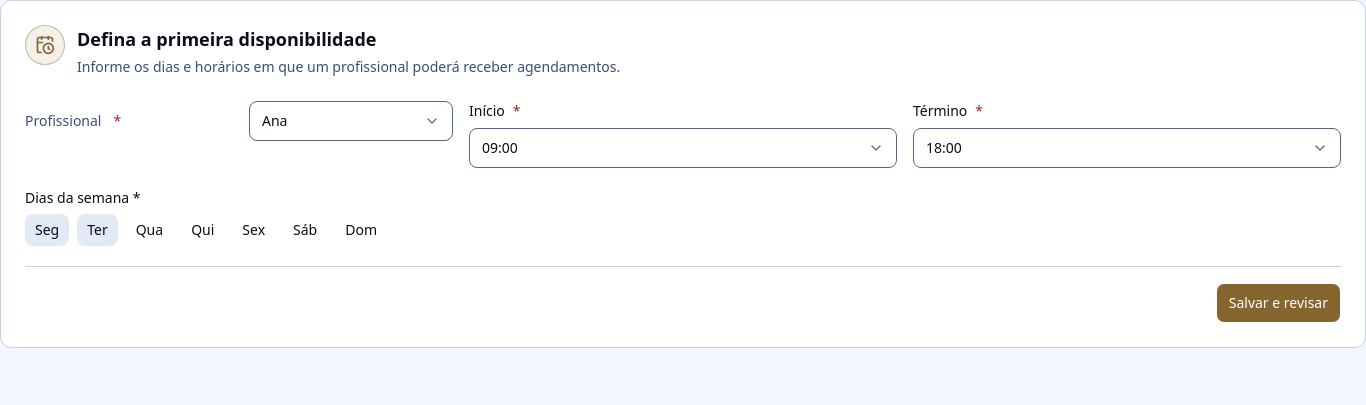
Scenario: onboarding availability step › validates missing days without sending a command
Click the button "Seg". click: (47, 230)
box: [25,214,69,246]
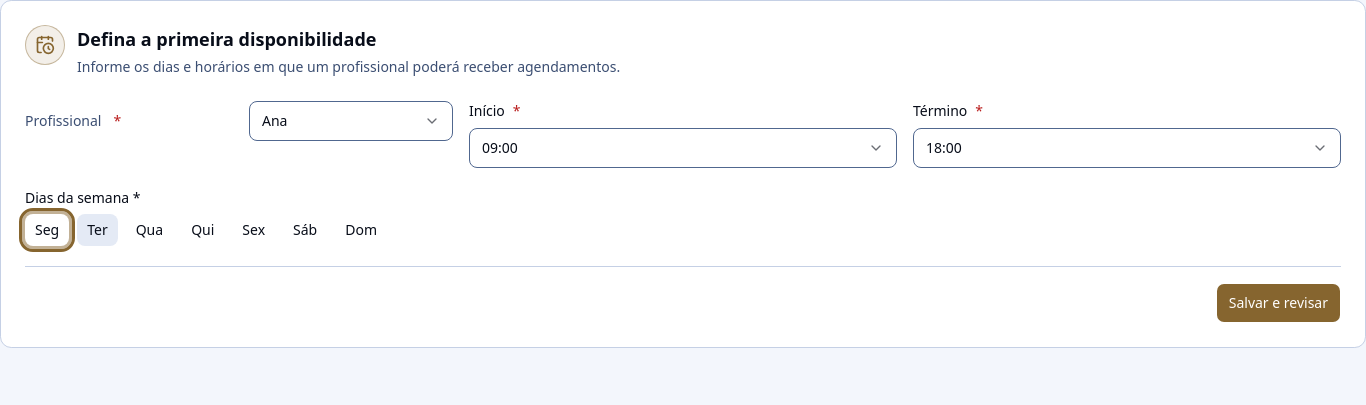
Click the button "Ter". click: (97, 230)
box: [77,214,118,246]
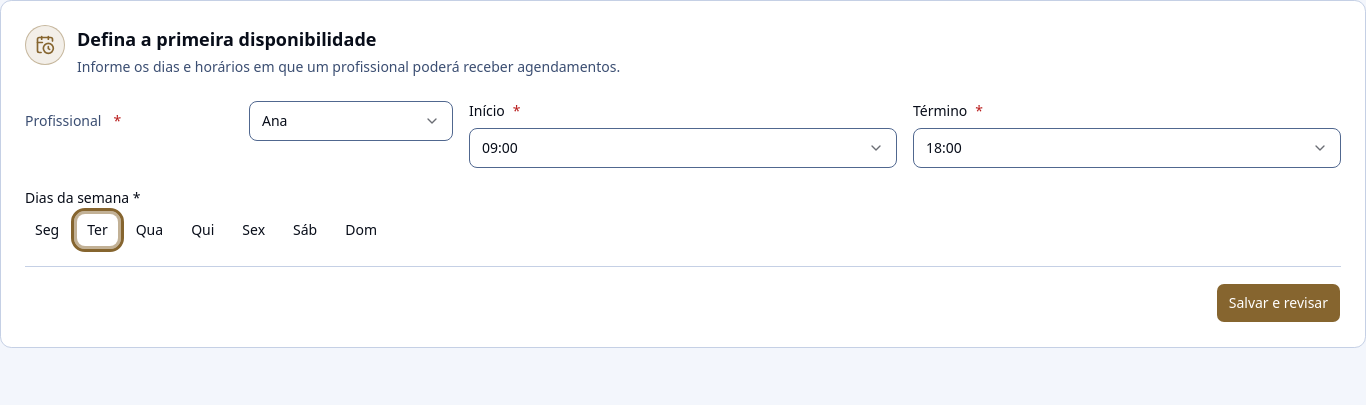
Click the button "Salvar e revisar". click: (1278, 303)
box: [1216,283,1341,323]
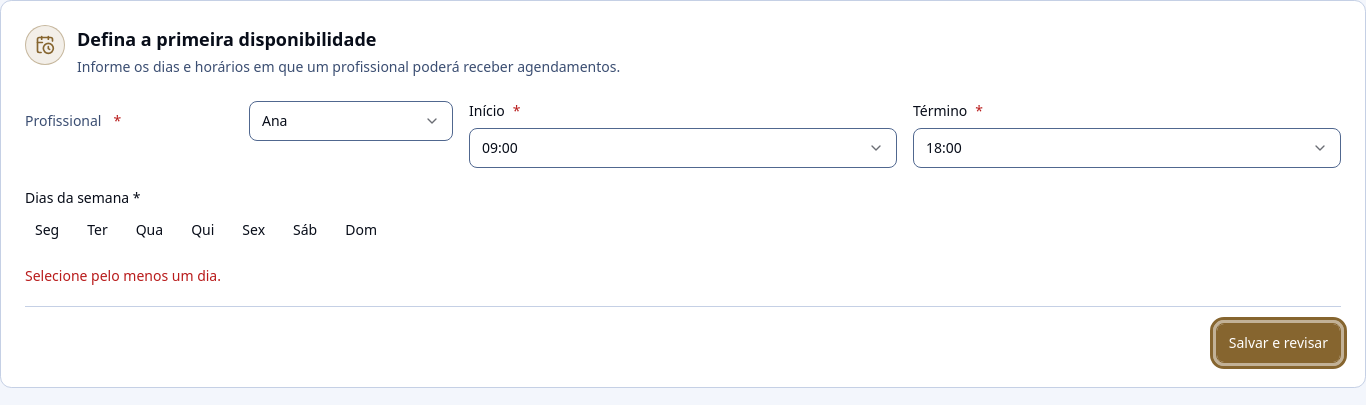
Now the message reads "Selecione pelo menos um dia.", box [25,266,221,285]
